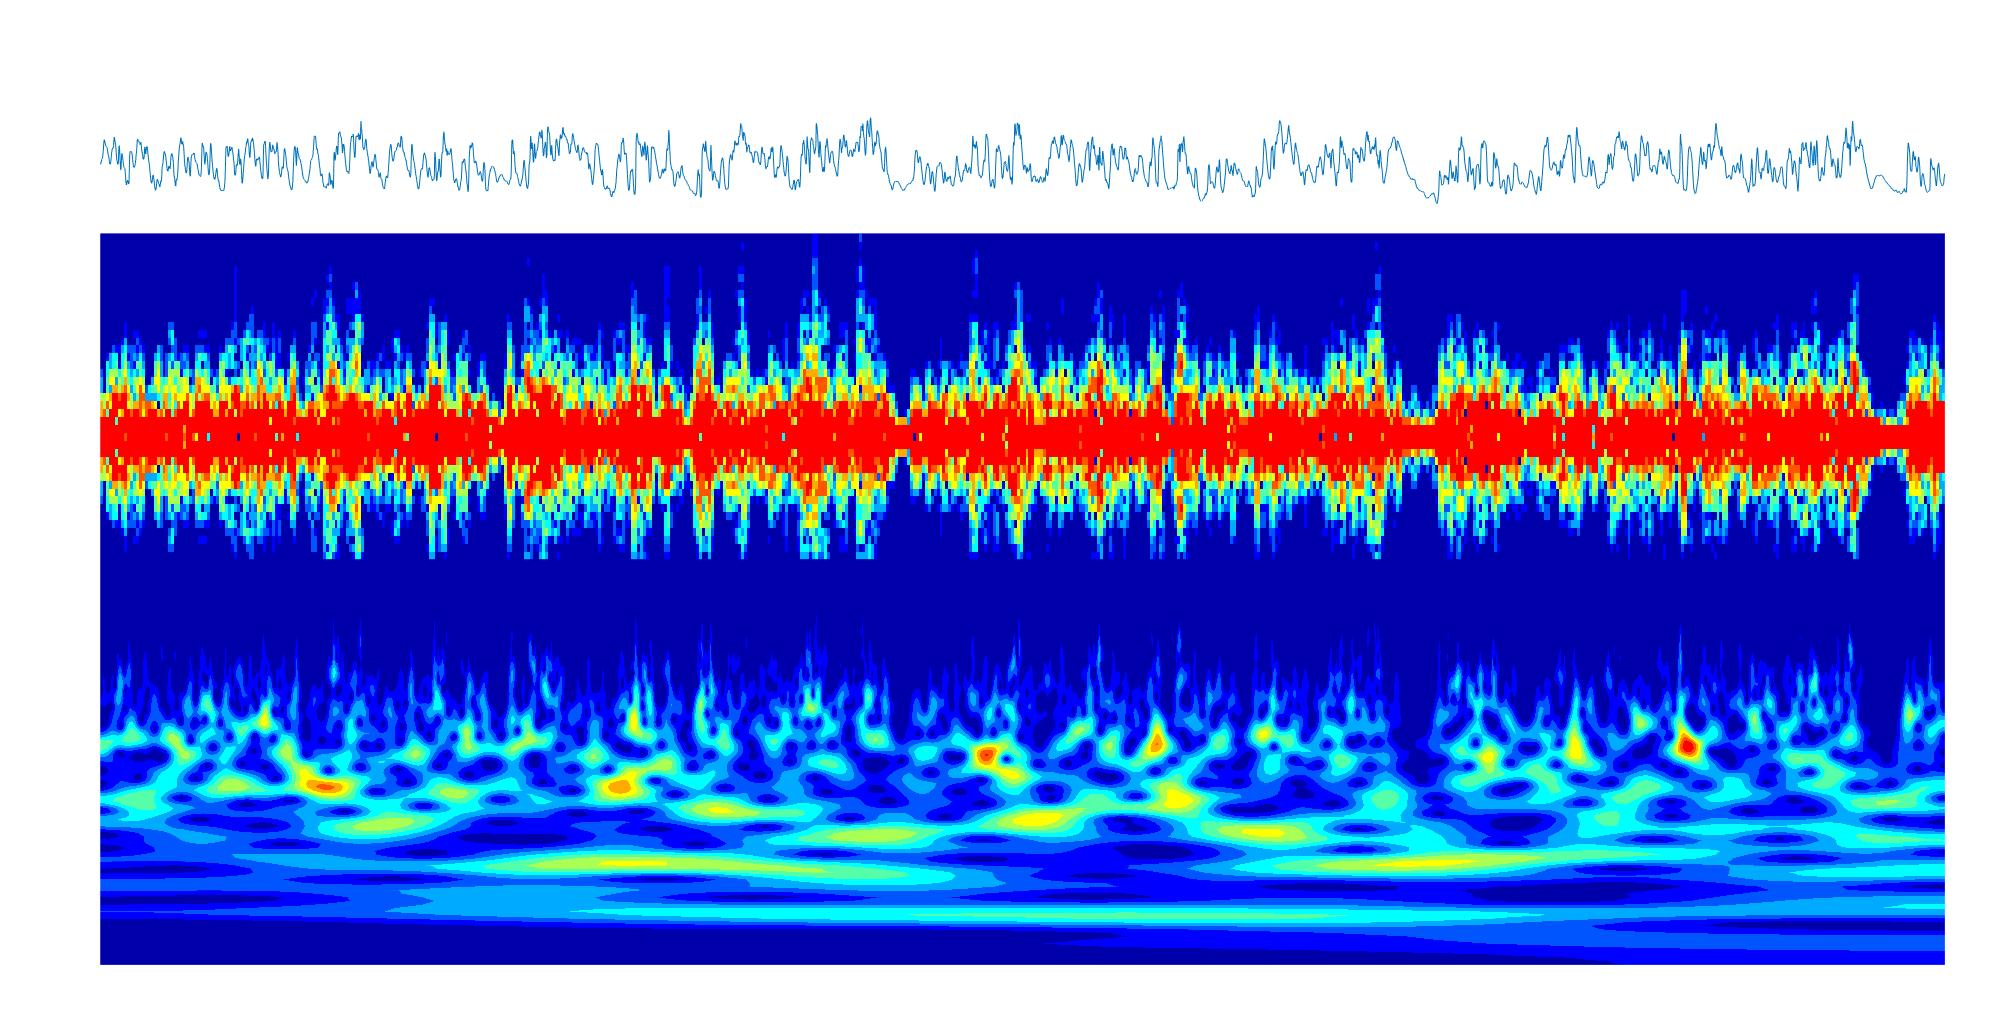TURBULENT: (921, 236, 1398, 965), (1442, 233, 1868, 964), (508, 235, 890, 963), (101, 233, 486, 930)
